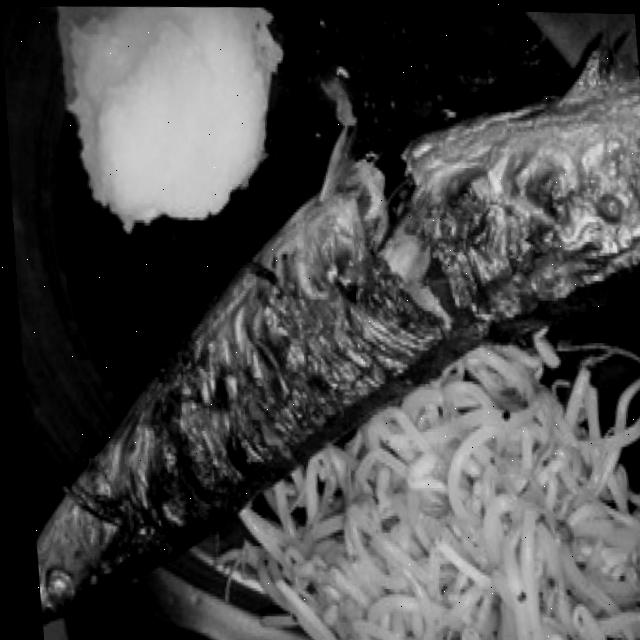熟制海鲜: (2, 39, 640, 640)
